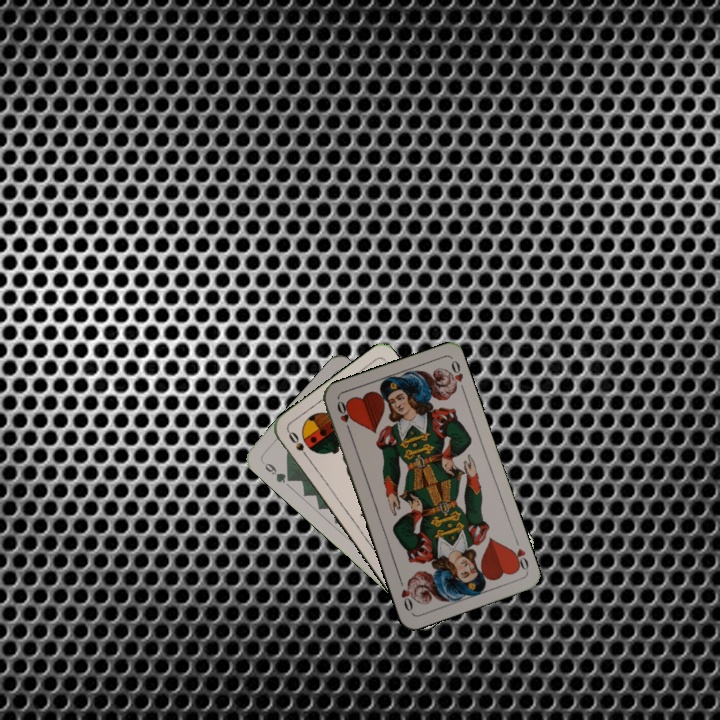G9: (258, 458, 295, 486)
HO: (333, 397, 354, 436), (506, 544, 531, 573)
SO: (284, 427, 313, 463)
